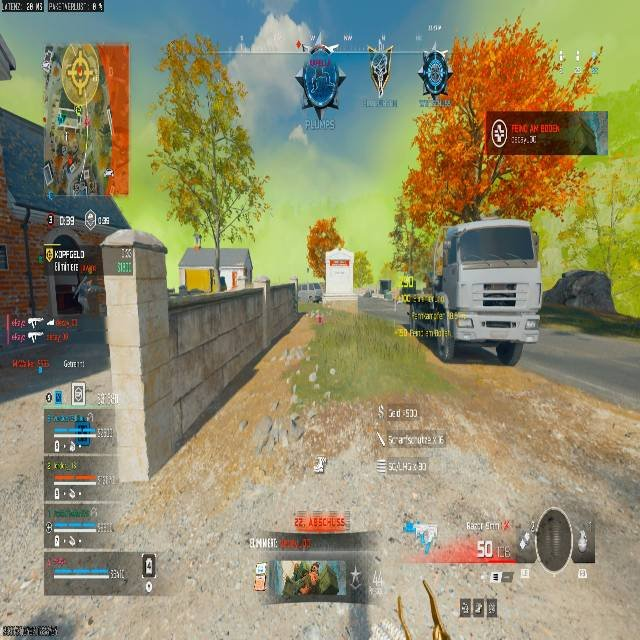player: (74, 279, 93, 313), (367, 287, 374, 296)
